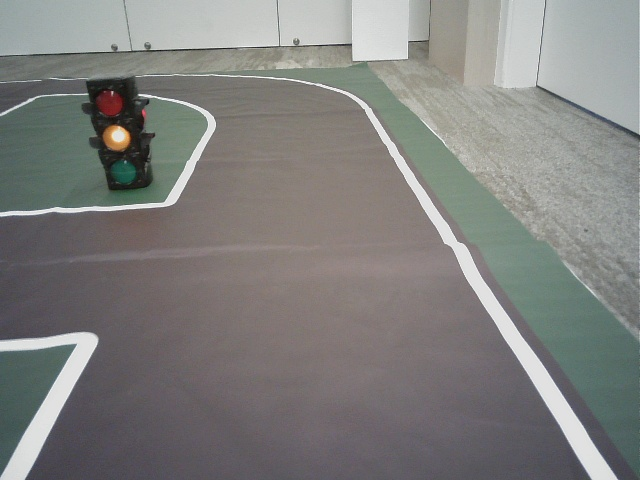yellow: (87, 82, 142, 184)
